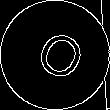O_SW: (24, 22, 86, 88)
